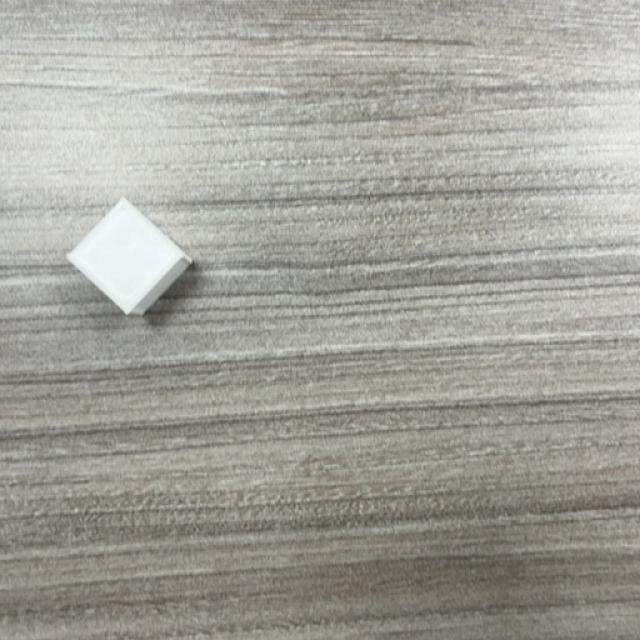Blanco: (65, 199, 194, 318)
